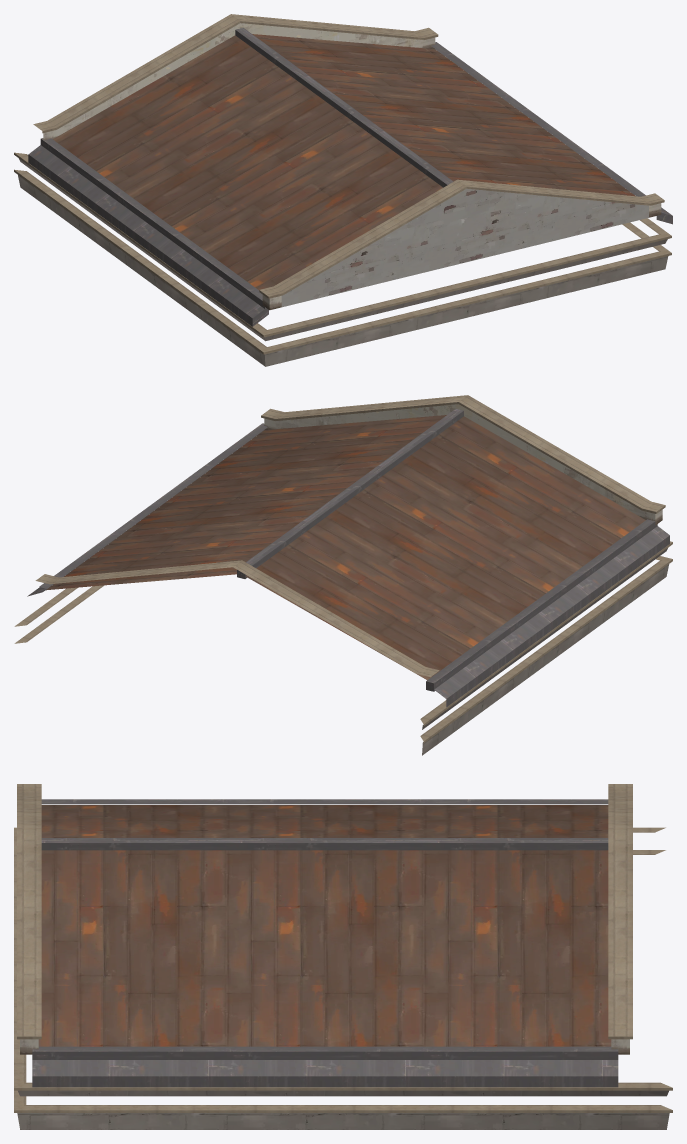
3 renders of one model, top to bottom at view 1: azimuth 30°, elevation 25°; view 2: azimuth 150°, elevation 25°; view 3: azimuth 270°, elevation 25°, orthographic. The views are drawn at different scales.
Visible parts, largest first — view 1: body0_model0_lod0_mesh4, body0_model0_lod0_mesh3, body0_model0_lod0_mesh1, body0_model0_lod0_mesh0, body0_model0_lod0_mesh5, body0_model0_lod0_mesh2; view 2: body0_model0_lod0_mesh4, body0_model0_lod0_mesh0, body0_model0_lod0_mesh3, body0_model0_lod0_mesh2, body0_model0_lod0_mesh5; view 3: body0_model0_lod0_mesh4, body0_model0_lod0_mesh0, body0_model0_lod0_mesh3, body0_model0_lod0_mesh5, body0_model0_lod0_mesh2.
Part boxes in pixels (<box>): body0_model0_lod0_mesh4: <box>53,34,635,290</box>; body0_model0_lod0_mesh3: <box>14,14,671,354</box>; body0_model0_lod0_mesh1: <box>281,188,648,307</box>; body0_model0_lod0_mesh0: <box>28,27,672,326</box>; body0_model0_lod0_mesh5: <box>18,158,668,366</box>; body0_model0_lod0_mesh2: <box>43,23,661,310</box>; body0_model0_lod0_mesh4: <box>46,415,645,680</box>; body0_model0_lod0_mesh0: <box>27,409,669,707</box>; body0_model0_lod0_mesh3: <box>14,395,672,743</box>; body0_model0_lod0_mesh2: <box>264,404,662,525</box>; body0_model0_lod0_mesh5: <box>422,548,669,755</box>; body0_model0_lod0_mesh4: <box>38,805,611,1046</box>; body0_model0_lod0_mesh0: <box>32,799,618,1087</box>; body0_model0_lod0_mesh3: <box>14,784,672,1112</box>; body0_model0_lod0_mesh5: <box>17,1090,669,1129</box>; body0_model0_lod0_mesh2: <box>20,1039,629,1054</box>.
Size of the model in its own units: 824 by 248 by 856.
6 materials, 6 textured.
